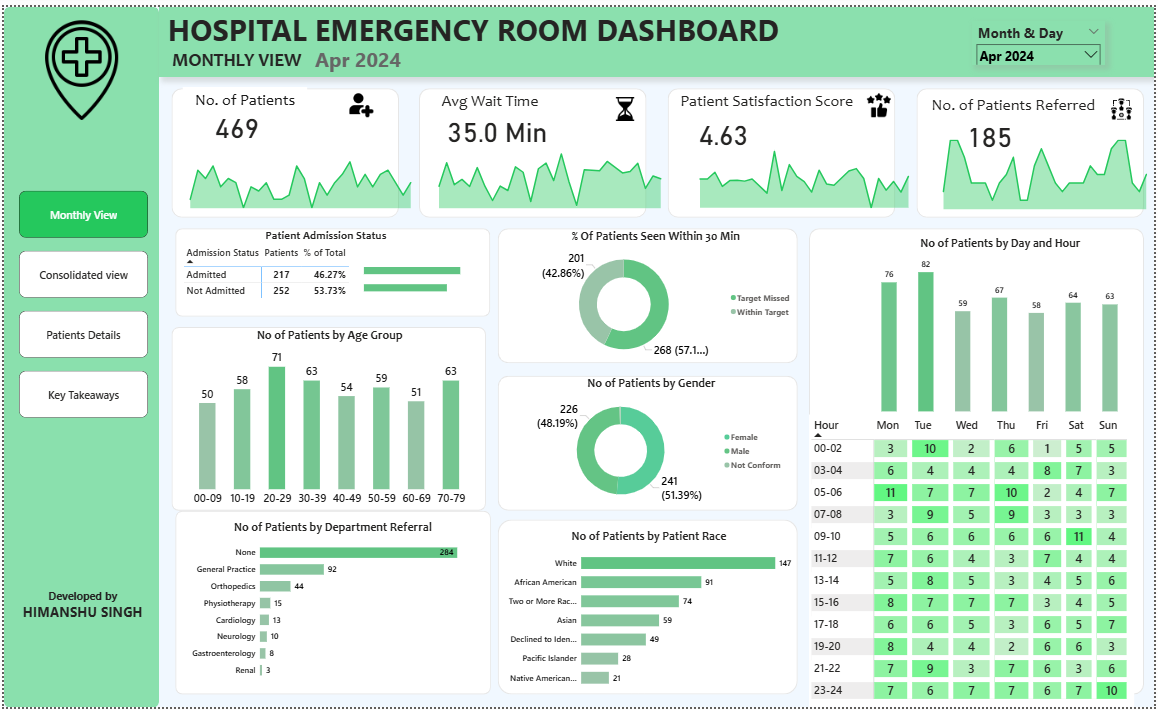

Layout of this report page (visuals, bound fields, positions):
{"tool":"powerbi","page":{"name":"Monthly View","canvas":[2300,1400],"ordinal":0},"visuals":[{"type":"shape","box":[333.8,162.7,455,258.8],"z":0},{"type":"shape","box":[0,0,310,1400.5],"z":1000},{"type":"shape","box":[310.7,0,1990,140],"z":2000},{"type":"shape","box":[830.5,162.7,455,258.8],"z":3000},{"type":"shape","box":[1327.1,162.7,455,258.8],"z":4000},{"type":"shape","box":[1823.8,162.7,455,258.8],"z":5000},{"type":"textbox","box":[309.6,0,1257.8,104],"z":6000},{"type":"textbox","box":[287.8,77.4,355.6,55.6],"z":7000},{"type":"card","fields":{"Values":["Hospital ER_Data.No of Patients"]},"box":[350.7,179,232.2,111.3],"z":8000},{"type":"slicer","fields":{"Values":["Data Table.Month & Day"]},"box":[1935.2,26.3,267.4,87.7],"z":9000},{"type":"textbox","box":[358,159.6,249.1,60.5],"z":10000},{"type":"areaChart","fields":{"Category":["Data Table.Date.Variation.Date Hierarchy.Day"],"Y":["Avg(Hospital ER_Data.Patient Waittime)"]},"box":[839.3,263.7,488.6,145.1],"z":11000},{"type":"card","fields":{"Values":["Min(Data Table.Month & Year)"]},"box":[582.9,60.5,251.6,87.1],"z":12000},{"type":"areaChart","fields":{"Category":["Data Table.Date.Variation.Date Hierarchy.Day"],"Y":["Hospital ER_Data.No of Patients"]},"box":[343.5,263.7,486.2,145.1],"z":13000},{"type":"areaChart","fields":{"Category":["Data Table.Date.Variation.Date Hierarchy.Day"],"Y":["Avg(Hospital ER_Data.Patient Satisfaction Score)"]},"box":[1347.3,263.7,476.5,145.1],"z":14000},{"type":"areaChart","fields":{"Category":["Data Table.Date.Variation.Date Hierarchy.Day"],"Y":["Hospital ER_Data.No of Patient Referred"]},"box":[1850.4,251.6,449.9,157.2],"z":15000},{"type":"textbox","box":[870.8,162.1,232.2,62.9],"z":16000},{"type":"textbox","box":[1347.3,162.1,389.4,62.9],"z":17000},{"type":"textbox","box":[1850.4,169.3,353.1,62.9],"z":18000},{"type":"card","fields":{"Values":["Hospital ER_Data.Avg Wait Time"]},"box":[856.3,200.8,258.8,89.5],"z":19000},{"type":"card","fields":{"Values":["Hospital ER_Data.No of Patient Referred"]},"box":[1838.3,220.1,268.5,70.1],"z":20000},{"type":"card","fields":{"Values":["Hospital ER_Data.Satisfaction Score"]},"box":[1306.2,210.4,268.5,79.8],"z":21000},{"type":"shape","box":[343.5,442.6,630,177],"z":22000},{"type":"pivotTable","title":"Patient Admission Status","fields":{"Rows":["Hospital ER_Data.Admission Status"],"Values":["Hospital ER_Data.No of Patients1","Hospital ER_Data.No of Patients"]},"box":[355.6,442.6,578.1,176.6],"z":23000},{"type":"barChart","fields":{"Category":["Hospital ER_Data.Admission Status"],"Y":["Hospital ER_Data.No of Patients"]},"box":[716,491,239.5,104],"z":24000},{"type":"shape","box":[333.8,641,628.9,367.7],"z":25000},{"type":"clusteredColumnChart","fields":{"Category":["Hospital ER_Data.Age Group"],"Y":["Hospital ER_Data.No of Patients"]},"box":[358,641,587.8,367.7],"z":26000},{"type":"shape","box":[343.5,1008.6,631.3,367.7],"z":27000},{"type":"clusteredBarChart","fields":{"Category":["Hospital ER_Data.Department Referral"],"Y":["Hospital ER_Data.No of Patients"]},"box":[370.1,1025.6,575.7,331.4],"z":28000},{"type":"shape","box":[987.5,442.5,600,270],"z":29000},{"type":"shape","box":[987.5,737.5,600,270],"z":30000},{"type":"donutChart","title":"% Of Patients Seen Within 30 Min","fields":{"Category":["Hospital ER_Data.waittime Status"],"Y":["Hospital ER_Data.No of Patients"]},"box":[1022.5,442.5,562.5,275],"z":31000},{"type":"donutChart","title":"No of Patients by Gender","fields":{"Y":["Hospital ER_Data.No of Patients"],"Category":["Hospital ER_Data.Patient Gender"]},"box":[1022.5,737.5,545,270],"z":32000},{"type":"shape","box":[987.5,1025,600,350],"z":33000},{"type":"clusteredBarChart","fields":{"Y":["Hospital ER_Data.No of Patients"],"Category":["Hospital ER_Data.Patient Race"]},"box":[992.5,1042.5,595,332.5],"z":34000},{"type":"shape","box":[1610,442.5,670,932.5],"z":35000},{"type":"pivotTable","fields":{"Rows":["Hospital ER_Data.Wait Time Interval"],"Columns":["Data Table.Day Name"],"Values":["Hospital ER_Data.No of Patients"]},"box":[1610,815,650,585],"z":36000},{"type":"columnChart","title":"No of Patients by Day and Hour","fields":{"Category":["Data Table.Day Name"],"Y":["Hospital ER_Data.No of Patients"]},"box":[1750,457.5,485,357.5],"z":37000},{"type":"image","box":[670,171.7,89.5,48.4],"z":38000},{"type":"image","box":[1197.3,179,89.5,48.4],"z":39000},{"type":"image","box":[1705.1,173.1,89.9,48.2],"z":40000},{"type":"image","box":[2189,179,89.5,48.4],"z":41000},{"type":"image","box":[46,19.4,220.1,212.9],"z":42000},{"type":"pageNavigator","box":[29,367.7,258.8,457.2],"z":43000},{"type":"textbox","box":[6.6,1157.2,300.3,131.5],"z":44000}]}

Visuals, with their boxes in screenshot pixels (x1, y1, x2, y2), scaled from the page's 2300x1400 canvas onto the 1158x710 screenshot:
shape: locate(168, 83, 397, 214)
shape: locate(0, 0, 156, 709)
shape: locate(156, 0, 1157, 71)
shape: locate(418, 83, 647, 214)
shape: locate(668, 83, 897, 214)
shape: locate(918, 83, 1147, 214)
textbox: locate(156, 0, 789, 53)
textbox: locate(145, 39, 324, 67)
card - Hospital ER_Data.No of Patients: locate(177, 91, 293, 147)
slicer - Data Table.Month & Day: locate(974, 13, 1109, 58)
textbox: locate(180, 81, 306, 112)
areaChart - Data Table.Date.Variation.Date Hierarchy.Day x Avg(Hospital ER_Data.Patient Waittime): locate(423, 134, 669, 207)
card - Min(Data Table.Month & Year): locate(293, 31, 420, 75)
areaChart - Data Table.Date.Variation.Date Hierarchy.Day x Hospital ER_Data.No of Patients: locate(173, 134, 418, 207)
areaChart - Data Table.Date.Variation.Date Hierarchy.Day x Avg(Hospital ER_Data.Patient Satisfaction Score): locate(678, 134, 918, 207)
areaChart - Data Table.Date.Variation.Date Hierarchy.Day x Hospital ER_Data.No of Patient Referred: locate(932, 128, 1157, 207)
textbox: locate(438, 82, 555, 114)
textbox: locate(678, 82, 874, 114)
textbox: locate(932, 86, 1109, 118)
card - Hospital ER_Data.Avg Wait Time: locate(431, 102, 561, 147)
card - Hospital ER_Data.No of Patient Referred: locate(926, 112, 1061, 147)
card - Hospital ER_Data.Satisfaction Score: locate(658, 107, 793, 147)
shape: locate(173, 224, 490, 314)
"Patient Admission Status" pivotTable: locate(179, 224, 470, 314)
barChart - Hospital ER_Data.Admission Status x Hospital ER_Data.No of Patients: locate(360, 249, 481, 302)
shape: locate(168, 325, 485, 512)
clusteredColumnChart - Hospital ER_Data.Age Group x Hospital ER_Data.No of Patients: locate(180, 325, 476, 512)
shape: locate(173, 512, 491, 698)
clusteredBarChart - Hospital ER_Data.Department Referral x Hospital ER_Data.No of Patients: locate(186, 520, 476, 688)
shape: locate(497, 224, 799, 361)
shape: locate(497, 374, 799, 511)
"% Of Patients Seen Within 30 Min" donutChart: locate(515, 224, 798, 364)
"No of Patients by Gender" donutChart: locate(515, 374, 789, 511)
shape: locate(497, 520, 799, 697)
clusteredBarChart - Hospital ER_Data.No of Patients x Hospital ER_Data.Patient Race: locate(500, 529, 799, 697)
shape: locate(811, 224, 1148, 697)
pivotTable - Hospital ER_Data.Wait Time Interval x Data Table.Day Name: locate(811, 413, 1138, 709)
"No of Patients by Day and Hour" columnChart: locate(881, 232, 1125, 413)
image: locate(337, 87, 382, 112)
image: locate(603, 91, 648, 115)
image: locate(858, 88, 904, 112)
image: locate(1102, 91, 1147, 115)
image: locate(23, 10, 134, 118)
pageNavigator: locate(15, 186, 145, 418)
textbox: locate(3, 587, 155, 654)
